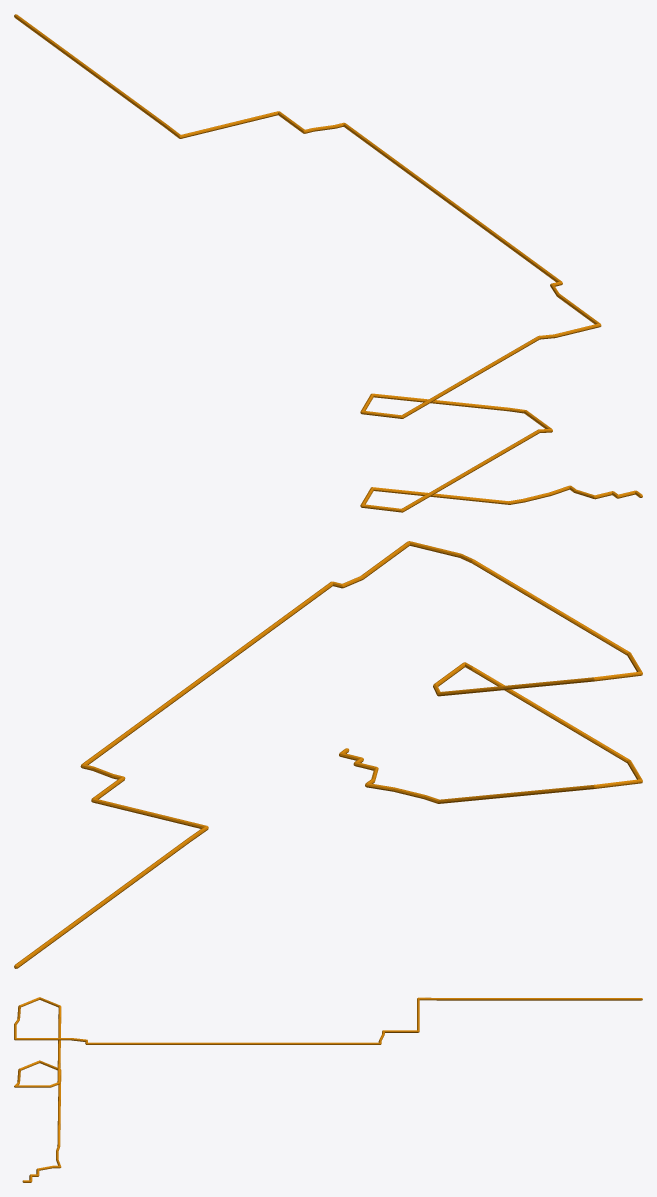
3 renders of one model, top to bottom at view 1: azimuth 30°, elevation 25°; view 2: azimuth 150°, elevation 25°; view 3: azimuth 270°, elevation 25°, orthographic. The views are drawn at different scales.
Bounding box in the file's own units: 1513 × 1020 × 4501.
